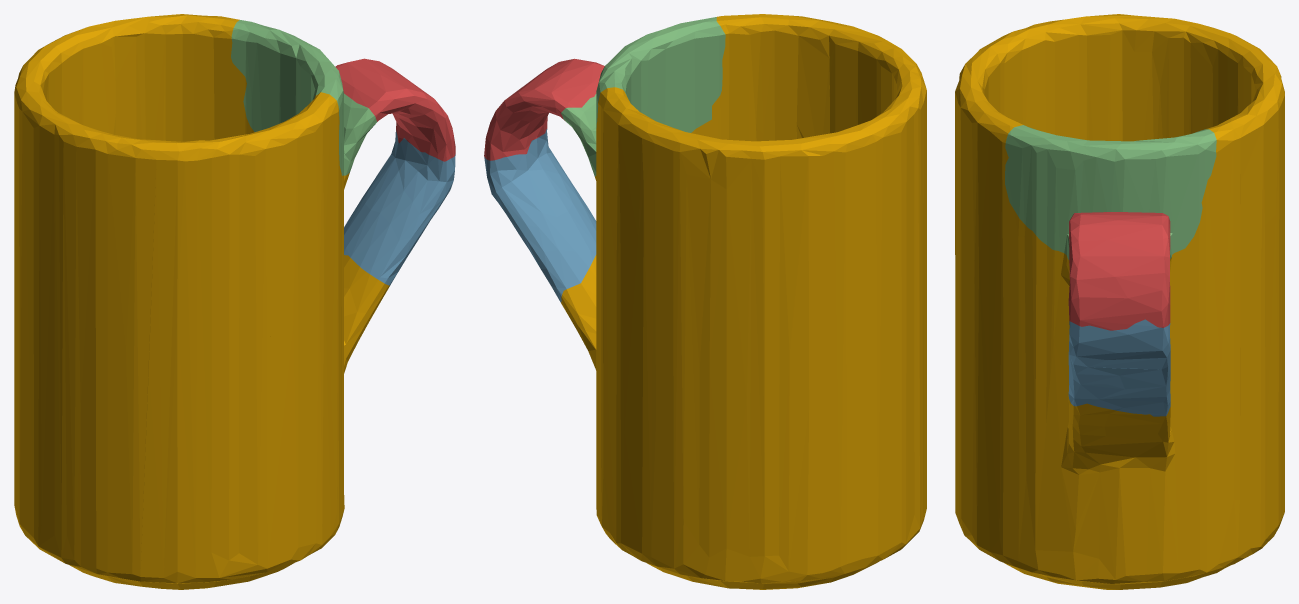
Rendered from fractured_31_4pcs.glb.
The picture shows the model from 3 angles, left to right: view 1: azimuth 30°, elevation 25°; view 2: azimuth 150°, elevation 25°; view 3: azimuth 270°, elevation 25°; orthographic projection.
Visible parts, largest first — view 1: piece_0.obj, piece_3.obj, piece_2.obj, piece_1.obj; view 2: piece_0.obj, piece_3.obj, piece_2.obj, piece_1.obj; view 3: piece_0.obj, piece_3.obj, piece_1.obj, piece_2.obj.
Boxes of the visible parts, box(x1,y1,x2,y2) form: piece_0.obj: box(14, 14, 389, 589); piece_3.obj: box(231, 20, 376, 175); piece_2.obj: box(344, 130, 455, 285); piece_1.obj: box(335, 58, 455, 161); piece_0.obj: box(561, 14, 926, 589); piece_3.obj: box(561, 17, 725, 176); piece_2.obj: box(484, 129, 596, 302); piece_1.obj: box(484, 58, 604, 160); piece_0.obj: box(955, 14, 1284, 589); piece_3.obj: box(1005, 125, 1216, 259); piece_1.obj: box(1068, 212, 1170, 330); piece_2.obj: box(1068, 319, 1170, 416).
Bounding box in the file's own units: 0.9165 × 1 × 0.6557.
